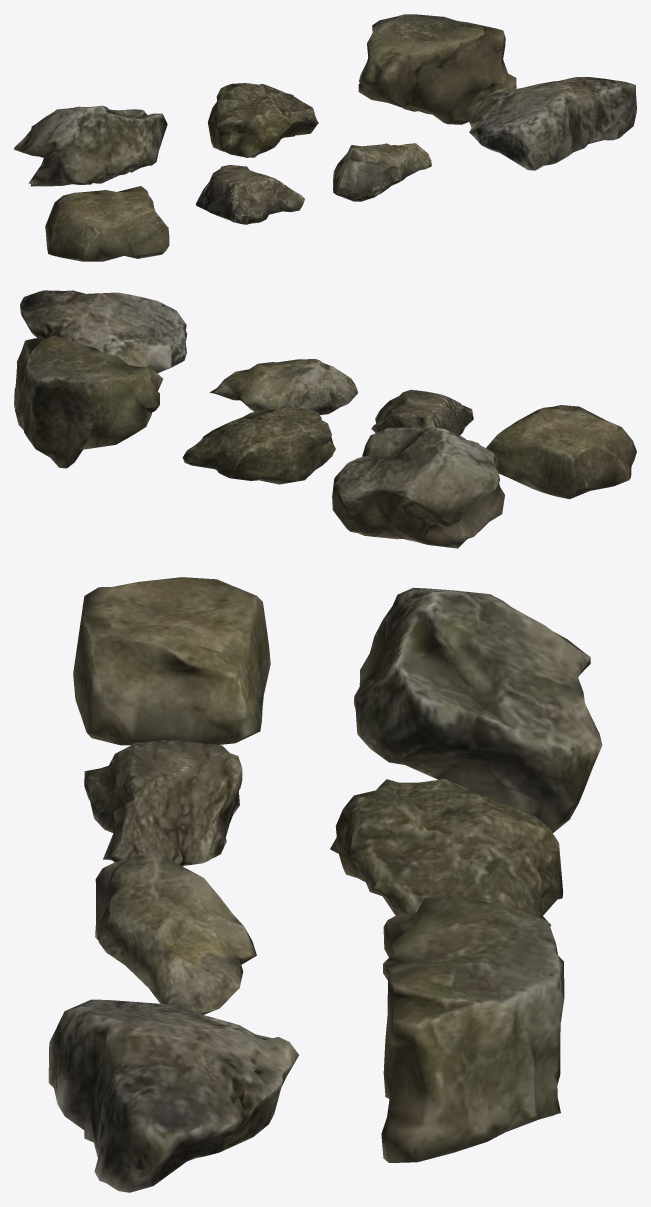
File: rock_moss_set_02.glb
3 views of the same model, one above another, from view 1: azimuth 30°, elevation 25°; view 2: azimuth 150°, elevation 25°; view 3: azimuth 270°, elevation 25° (orthographic). The views are drawn at different scales.
Parts seen in each view (by area): view 1: rock_moss_set_02_rock08; view 2: rock_moss_set_02_rock08; view 3: rock_moss_set_02_rock08.
Boxes of the visible parts, x1,y1,x2,y2 form: rock_moss_set_02_rock08: (14,14,636,261); rock_moss_set_02_rock08: (14,290,636,548); rock_moss_set_02_rock08: (48,577,602,1192).
Size of the model in its own units: 8.27 by 1.36 by 3.4.
Materials: 1 (1 with a texture image).
